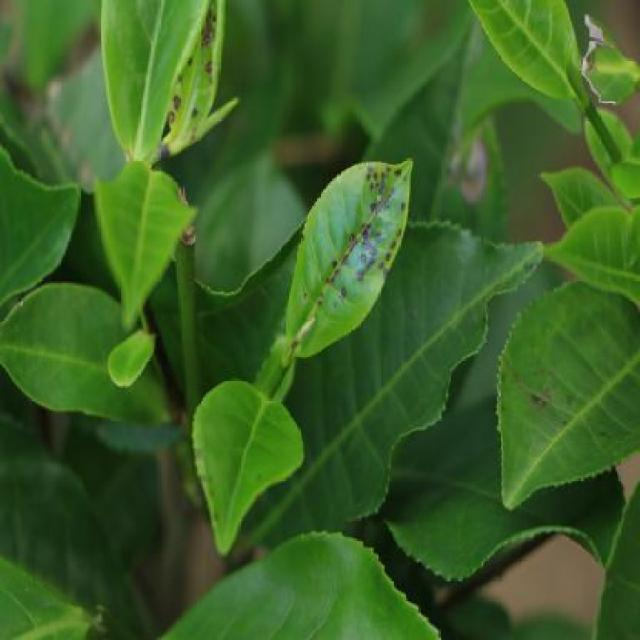Tea Mosquito bug infested leaf: (274, 152, 418, 366), (155, 0, 220, 165)
